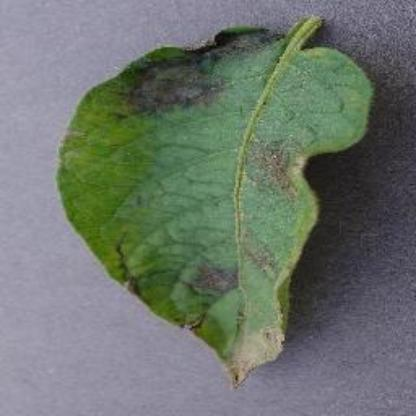Late-Blight: (19, 6, 405, 398)
